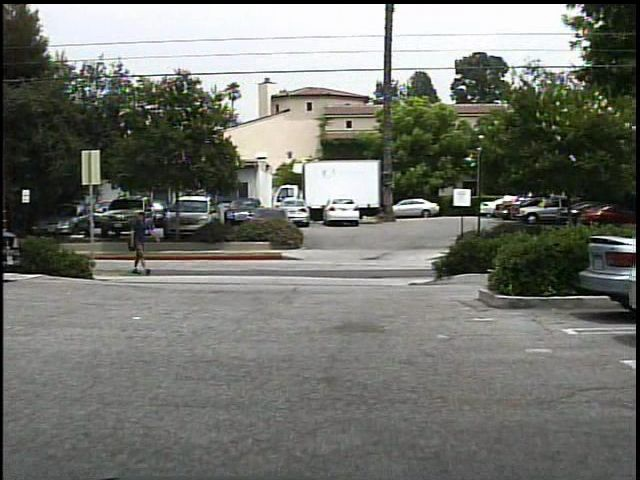person: (126, 209, 160, 277)
